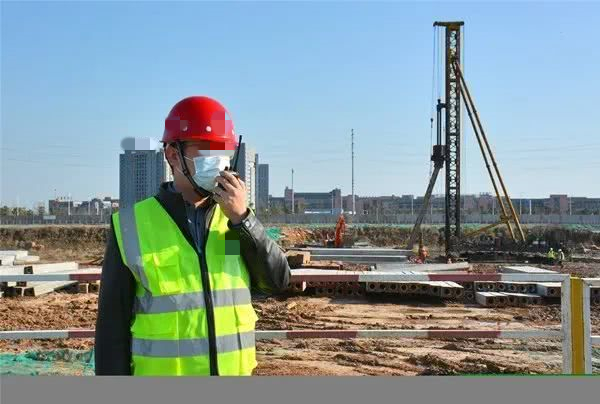helmet: (160, 96, 238, 148)
person: (93, 94, 292, 376)
vest: (116, 200, 259, 376)
